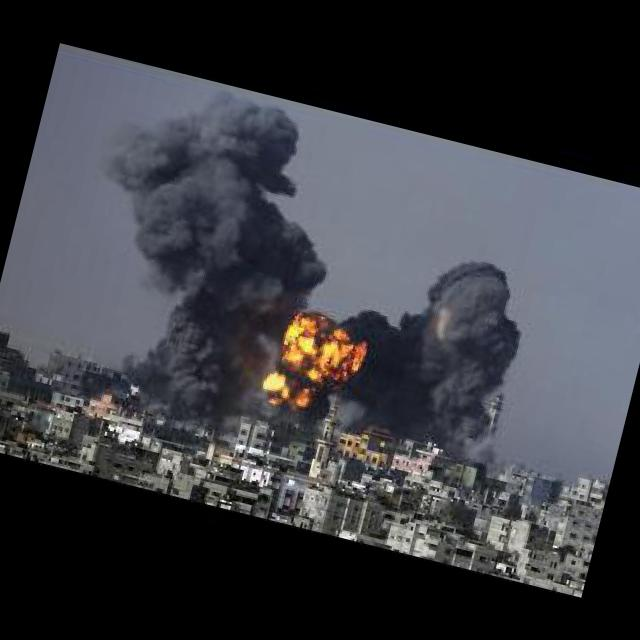Fire: (256, 297, 378, 433)
Smoke: (70, 73, 346, 429), (354, 241, 530, 438)
